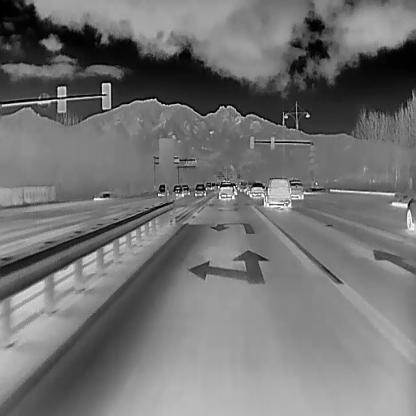car: (263, 177, 291, 208), (217, 179, 234, 200), (288, 179, 304, 199), (249, 182, 263, 198), (171, 184, 183, 198), (156, 183, 168, 196), (194, 183, 206, 196), (238, 181, 248, 192), (231, 183, 238, 196), (181, 184, 189, 195), (205, 181, 212, 190)
